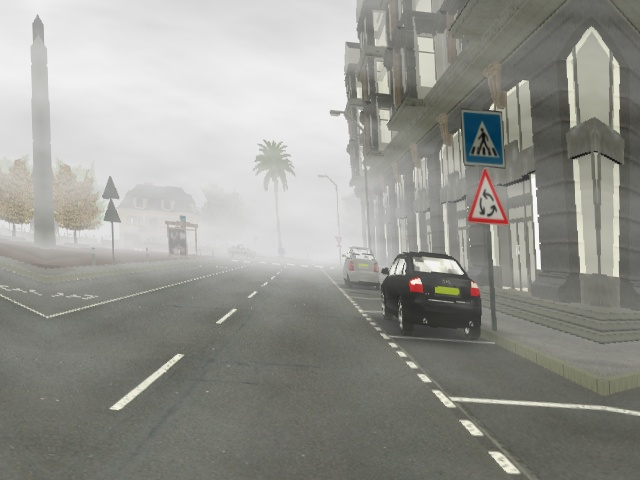Crossroad: (460, 173, 520, 233)
Pedestrian crossing: (457, 104, 513, 173)
